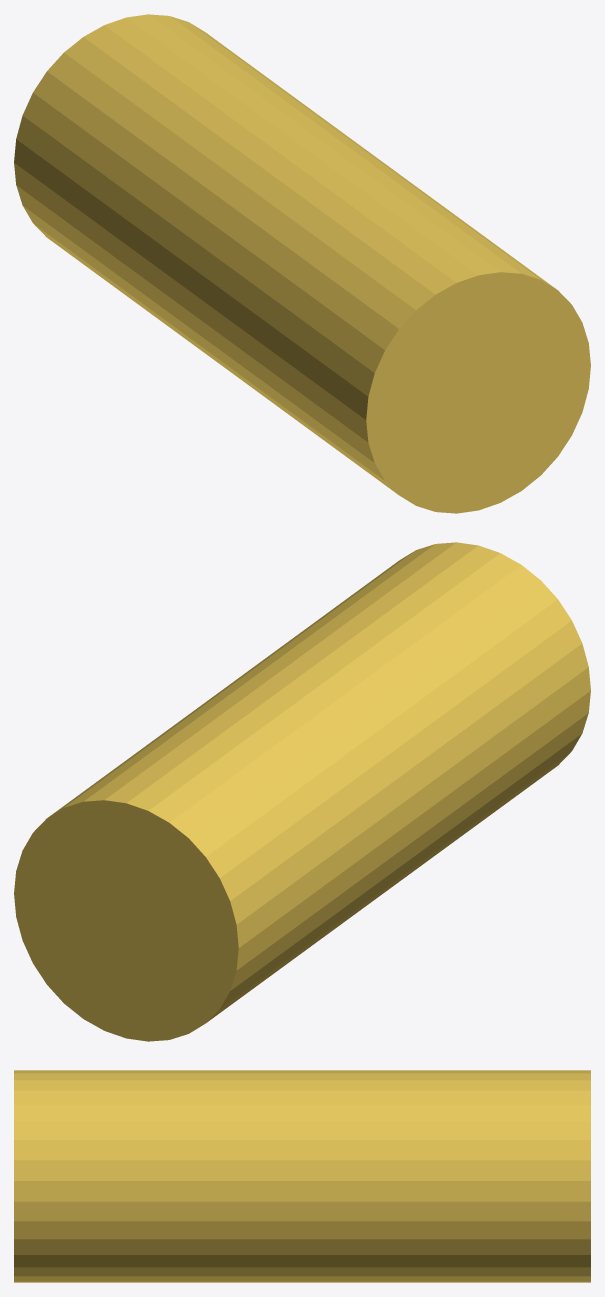
The model's file is CO_LeiheGunship.fbx.
3 views of the same model, one above another, from view 1: azimuth 30°, elevation 25°; view 2: azimuth 150°, elevation 25°; view 3: azimuth 270°, elevation 25° (orthographic). The views are drawn at different scales.
Parts seen in each view (by area): view 1: Cylinder; view 2: Cylinder; view 3: Cylinder.
Part boxes in pixels (x1,y1,x2,y2): Cylinder: [14, 14, 590, 513]; Cylinder: [14, 542, 590, 1041]; Cylinder: [14, 1070, 590, 1282].
Size of the model in its own units: 140 by 140 by 380.
